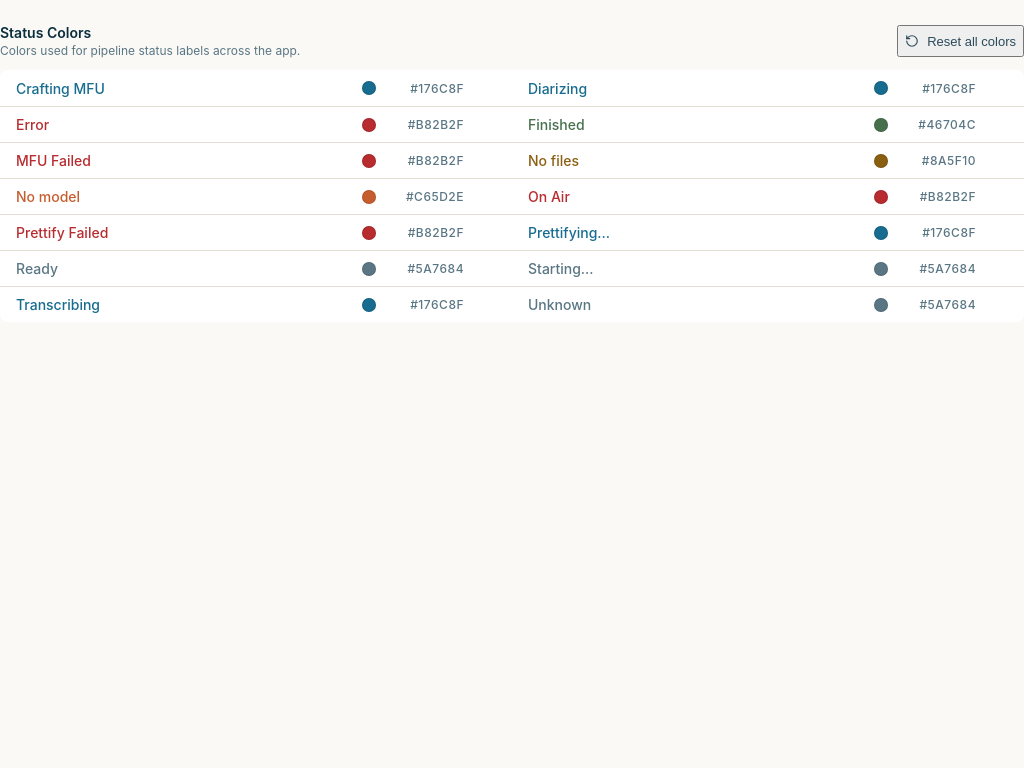
Test: StatusColorsSection — picker popover › saves a valid color, applies it immediately, and persists it
Click the button "On Air #B82B2F" at (549, 196), box [528,188,976,205]
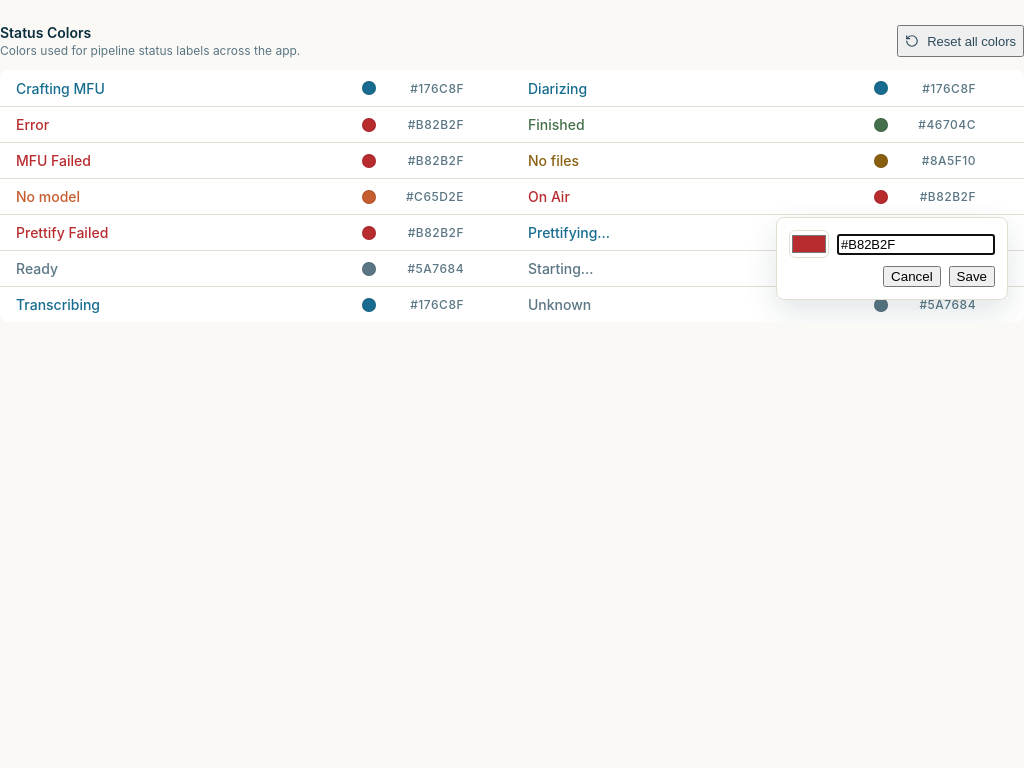
Replace the text in the field named "Hex color" with "#334455" at (916, 244), box [837,234,995,254]
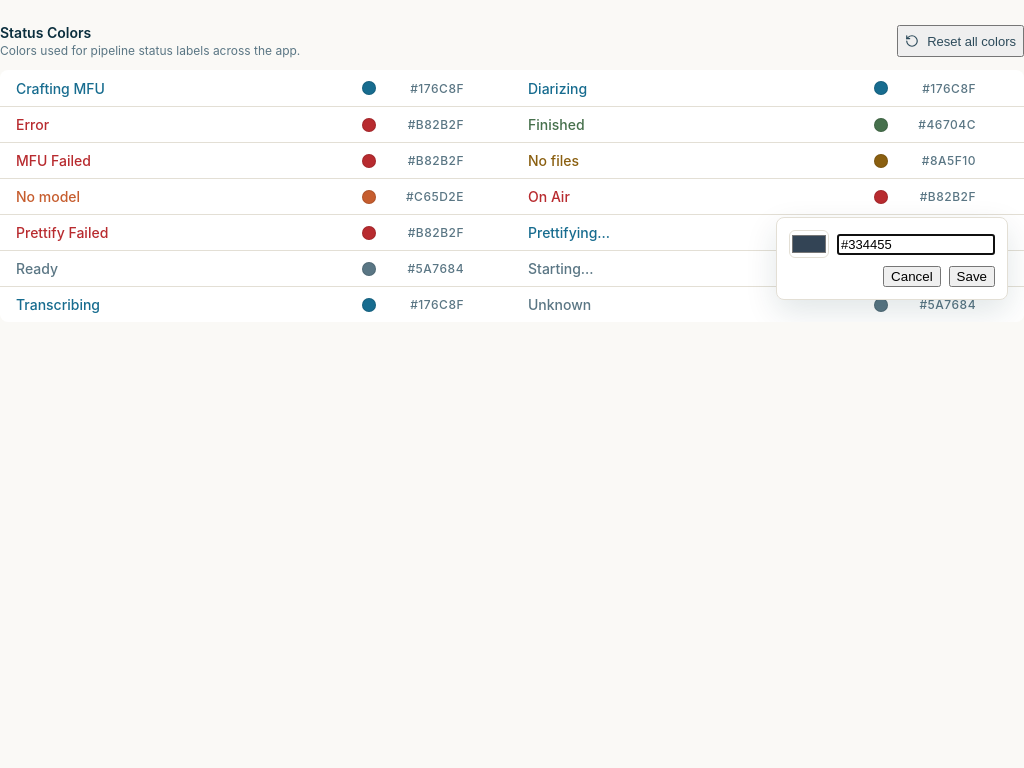
Click the button "Save" at (972, 276), box [949,266,995,287]
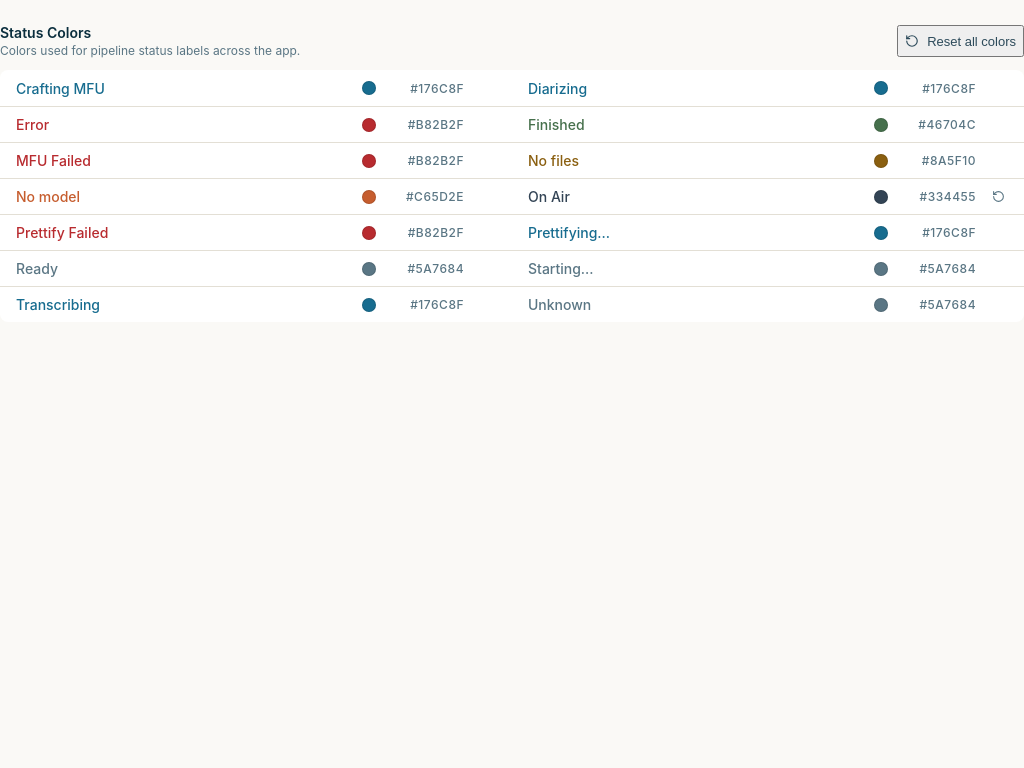
Now the dialog is gone
Now the text "#334455" is shown, box [920,189,976,204]
Now the button named "Revert On Air to default color" is shown, box [990,188,1006,205]
